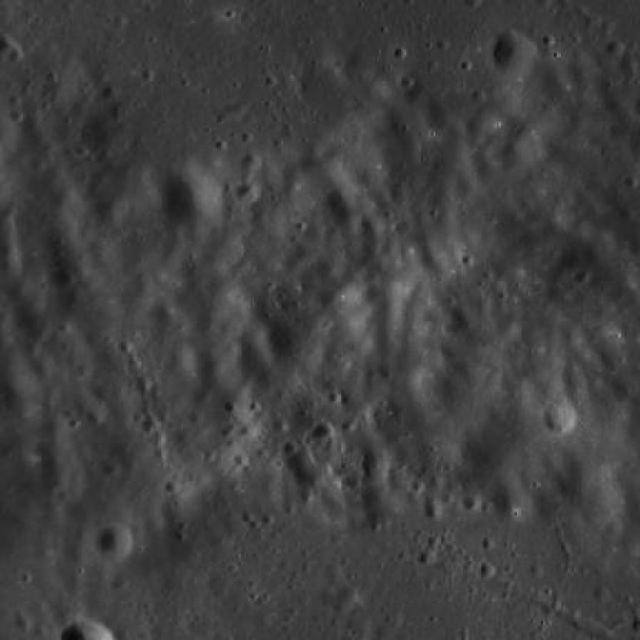crater: (160, 168, 226, 234), (556, 462, 622, 526), (270, 312, 328, 368), (73, 293, 121, 341), (195, 346, 240, 392), (491, 32, 537, 76), (492, 486, 532, 525), (235, 344, 274, 381), (94, 522, 131, 558), (36, 458, 72, 492), (543, 401, 577, 434), (534, 489, 568, 522), (36, 432, 70, 465), (607, 280, 640, 313), (4, 389, 36, 422), (281, 442, 314, 473), (567, 57, 598, 88), (296, 462, 326, 490), (38, 412, 68, 440), (326, 187, 354, 216), (238, 324, 266, 352), (499, 142, 527, 170), (3, 275, 31, 303), (360, 452, 389, 479), (421, 249, 448, 277), (0, 432, 22, 463), (194, 310, 220, 336), (474, 157, 500, 183), (0, 222, 20, 255), (97, 199, 123, 224), (454, 174, 480, 198), (462, 118, 487, 142), (375, 298, 400, 322), (0, 252, 23, 278), (0, 116, 18, 149), (448, 302, 474, 324), (154, 304, 178, 327), (360, 213, 382, 236), (473, 144, 495, 166), (238, 182, 259, 204), (85, 403, 106, 425), (52, 270, 74, 290), (338, 584, 360, 604), (240, 152, 260, 172), (314, 422, 334, 442), (53, 187, 73, 207), (618, 56, 637, 75), (319, 585, 338, 604), (134, 376, 154, 394), (605, 520, 624, 538), (142, 414, 160, 432), (324, 560, 342, 578), (385, 182, 403, 200), (109, 574, 128, 591), (418, 549, 436, 566), (348, 616, 367, 632), (607, 39, 624, 56), (423, 504, 440, 521), (7, 48, 24, 64), (1, 204, 17, 220), (28, 155, 44, 171), (0, 35, 12, 55), (463, 496, 480, 510), (102, 460, 118, 474)
